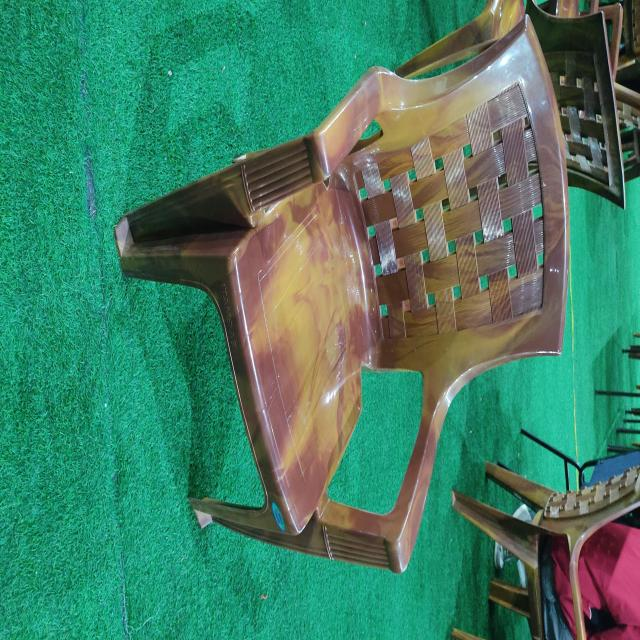Pringles: (113, 2, 570, 574)
